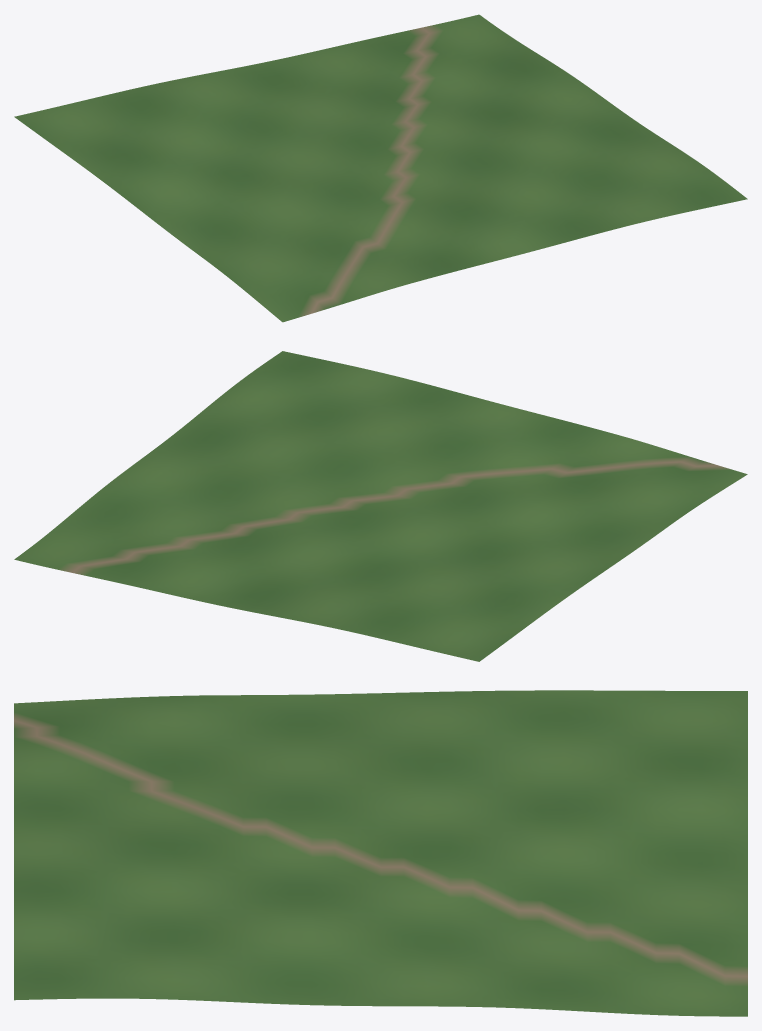
Rendered from chunk_9_4.glb.
The picture shows the model from 3 angles, top to bottom: view 1: azimuth 30°, elevation 25°; view 2: azimuth 150°, elevation 25°; view 3: azimuth 270°, elevation 25°; orthographic projection. The views are drawn at different scales.
Size of the model in its own units: 512 by 15.2 by 512.
